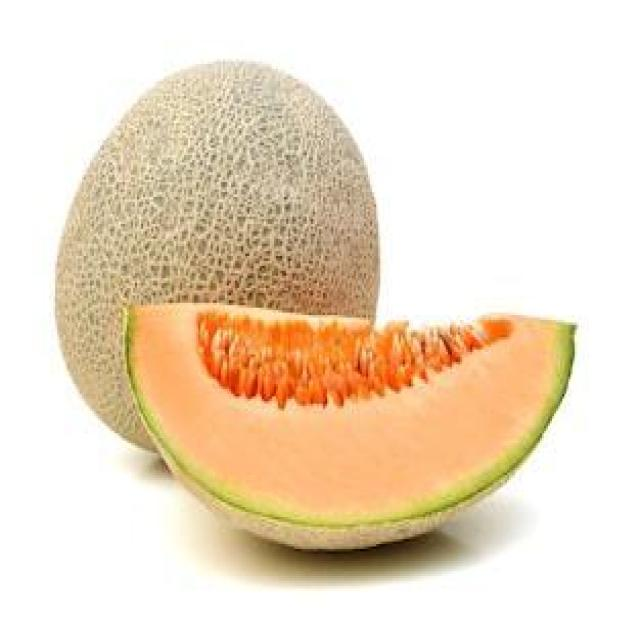cantaloupe: (54, 66, 380, 454), (122, 299, 575, 553)
